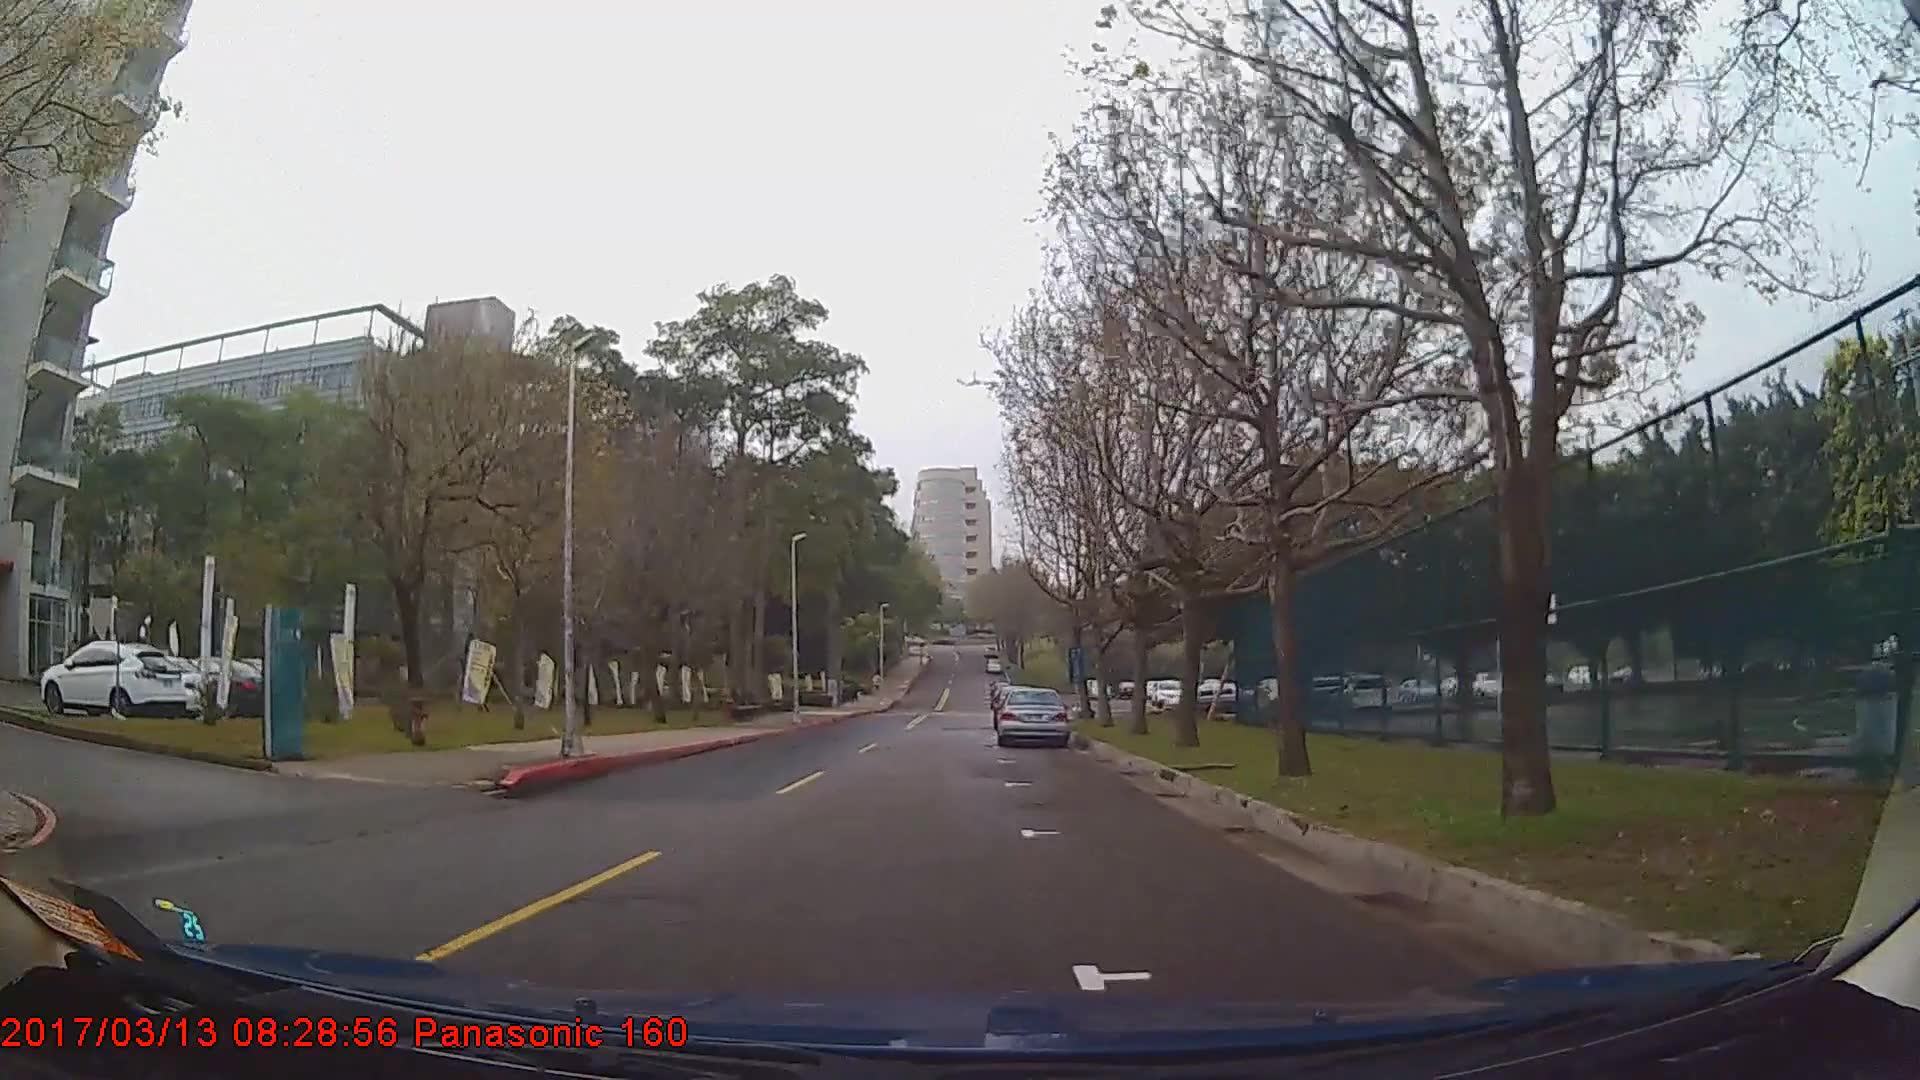vehicle: (38, 638, 186, 717), (92, 649, 222, 711), (996, 686, 1069, 746)
